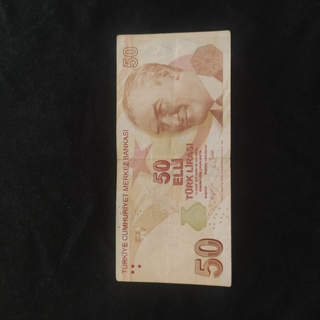50TLFront: (115, 30, 232, 287)
